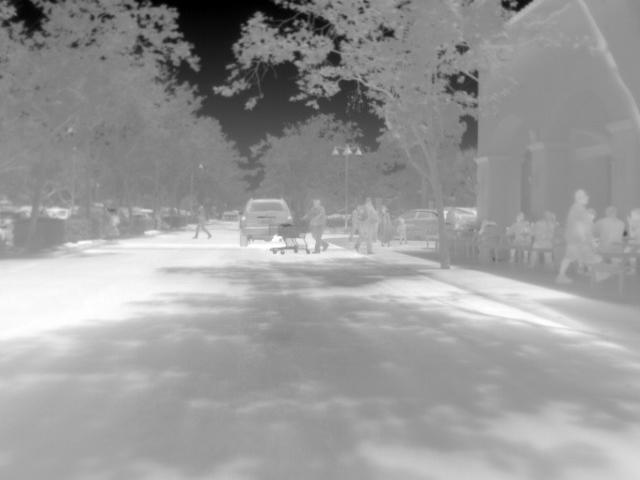car: (237, 196, 293, 245), (397, 207, 442, 240), (454, 205, 478, 228)
person: (557, 186, 607, 283), (300, 196, 332, 254), (350, 195, 380, 254), (592, 204, 624, 244), (507, 211, 531, 262), (529, 210, 553, 248), (189, 205, 213, 242), (377, 204, 396, 248), (395, 214, 409, 244)
